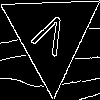V: (26, 9, 71, 66)
